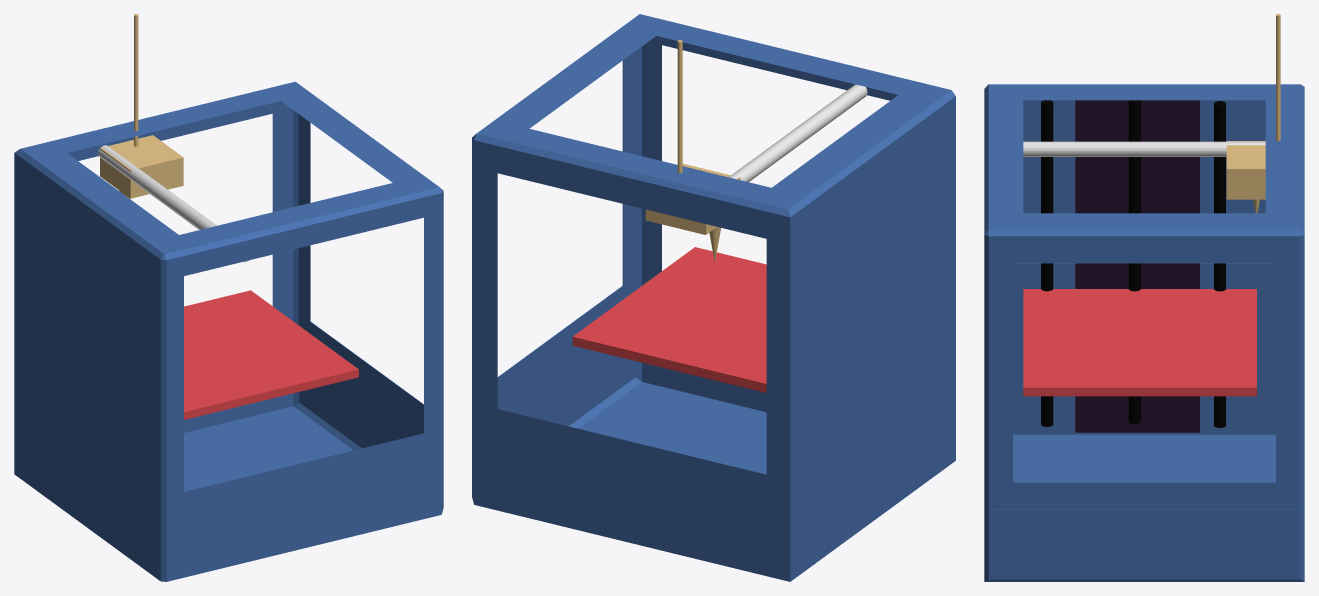
3 views of the same model, side by side, from view 1: azimuth 30°, elevation 25°; view 2: azimuth 150°, elevation 25°; view 3: azimuth 270°, elevation 25° (orthographic). The views are drawn at different scales.
Visible parts, largest first — view 1: Куб, Куб.001, Цилиндр.003, Цилиндр.005; view 2: Куб, Куб.001, Цилиндр.005, Цилиндр.003; view 3: Куб, Куб.001, Куб.002, Цилиндр.005, Цилиндр.003, Цилиндр, Цилиндр.001, Цилиндр.002.
Boxes of the visible parts, box(x1,y1,x2,y2) form: Куб: box(14, 81, 443, 581); Куб.001: box(184, 290, 358, 419); Цилиндр.003: box(100, 14, 183, 198); Цилиндр.005: box(98, 145, 248, 262); Куб: box(472, 14, 955, 581); Куб.001: box(572, 247, 766, 392); Цилиндр.005: box(729, 84, 867, 182); Цилиндр.003: box(645, 40, 740, 262); Куб: box(984, 84, 1304, 581); Куб.001: box(1023, 289, 1256, 396); Куб.002: box(1075, 100, 1199, 432); Цилиндр.005: box(1023, 141, 1265, 156); Цилиндр.003: box(1226, 14, 1280, 213); Цилиндр: box(1041, 100, 1053, 426); Цилиндр.001: box(1128, 100, 1140, 424); Цилиндр.002: box(1214, 101, 1225, 427).
Size of the model in its own units: 1038 by 1586 by 943.
